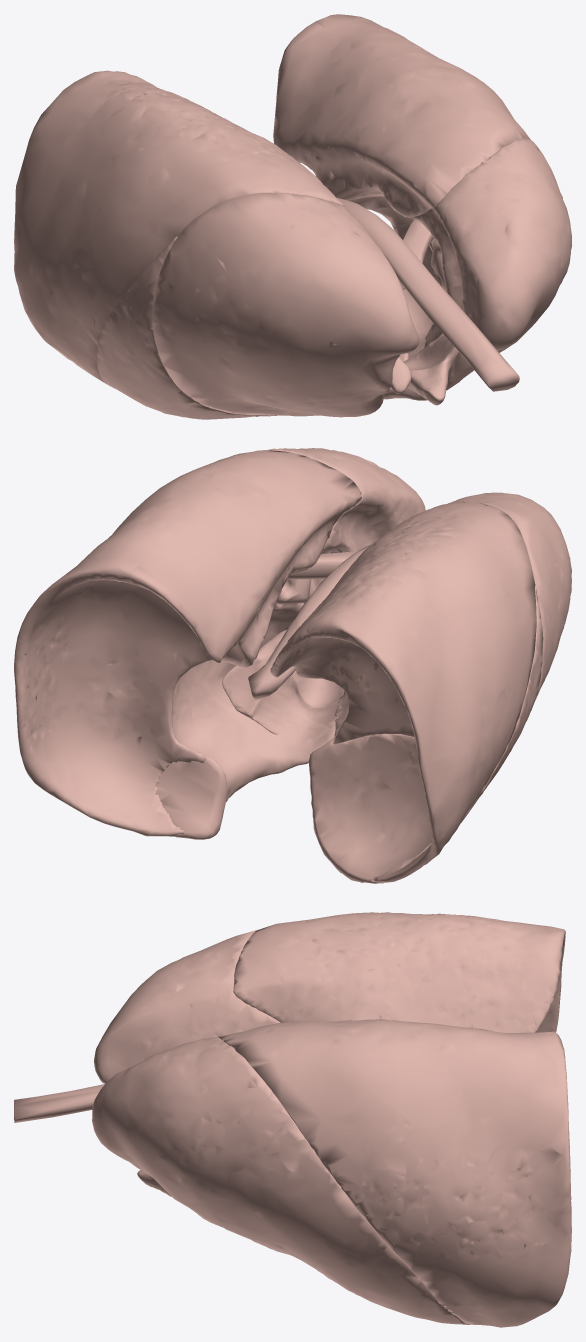
Rendered from thorax__organs.a6bc7e5ca2.glb.
The picture shows the model from 3 angles, top to bottom: view 1: azimuth 30°, elevation 25°; view 2: azimuth 150°, elevation 25°; view 3: azimuth 270°, elevation 25°; orthographic projection. The views are drawn at different scales.
Parts seen in each view (by area): view 1: FMA7333, FMA7337, FMA7371, FMA7370, FMA7383, FMA7131, FMA71195, FMA7409, FMA71194; view 2: FMA7371, FMA7337, FMA7370, FMA7383, FMA7333, FMA71195, FMA7131, FMA7409; view 3: FMA7371, FMA7370, FMA7337, FMA7333, FMA7131.
Part boxes in pixels (x1=…): FMA7333: x1=152, y1=193, x2=419, y2=417; FMA7337: x1=14, y1=70, x2=344, y2=385; FMA7371: x1=273, y1=14, x2=530, y2=289; FMA7370: x1=383, y1=138, x2=571, y2=400; FMA7383: x1=97, y1=236, x2=276, y2=419; FMA7131: x1=337, y1=198, x2=519, y2=391; FMA71195: x1=403, y1=324, x2=459, y2=405; FMA7409: x1=207, y1=216, x2=433, y2=287; FMA71194: x1=389, y1=353, x2=411, y2=393; FMA7371: x1=14, y1=450, x2=361, y2=836; FMA7337: x1=270, y1=501, x2=536, y2=882; FMA7370: x1=155, y1=448, x2=425, y2=839; FMA7383: x1=308, y1=587, x2=543, y2=883; FMA7333: x1=447, y1=492, x2=571, y2=701; FMA71195: x1=222, y1=629, x2=344, y2=734; FMA7131: x1=248, y1=544, x2=371, y2=699; FMA7409: x1=287, y1=547, x2=531, y2=579; FMA7371: x1=217, y1=1019, x2=571, y2=1327; FMA7370: x1=92, y1=1037, x2=469, y2=1324; FMA7337: x1=233, y1=912, x2=565, y2=1032; FMA7333: x1=94, y1=929, x2=280, y2=1083; FMA7131: x1=14, y1=1084, x2=104, y2=1122.
Size of the model in its own units: 253 by 181 by 301.
